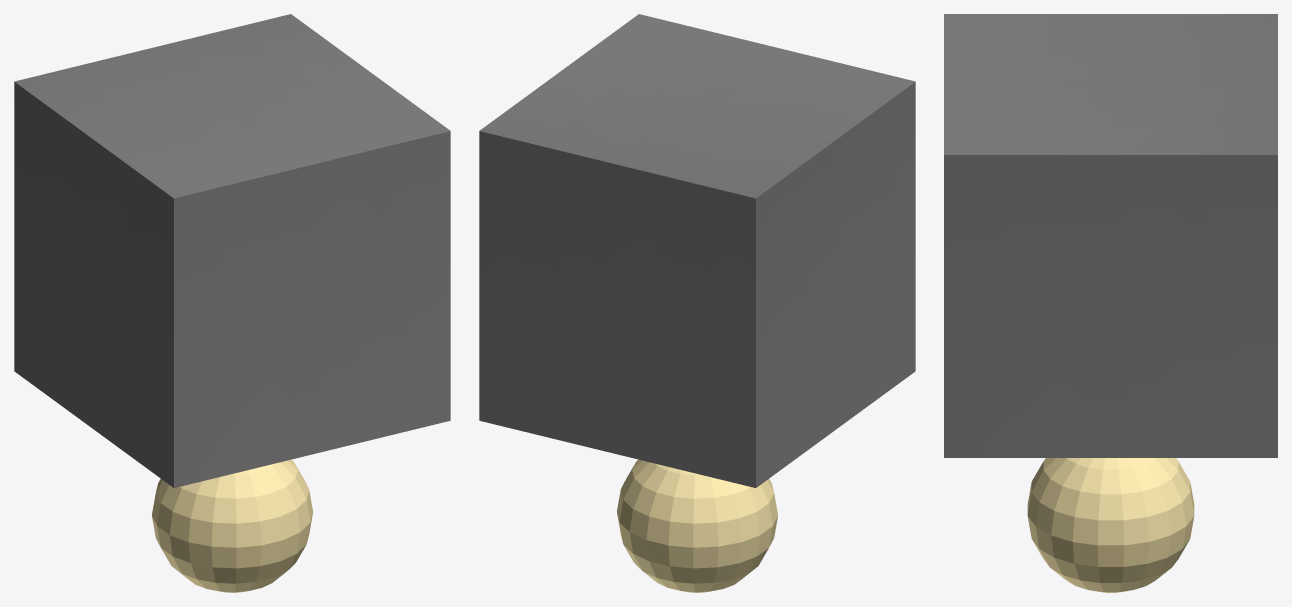
The model's file is dc_metro_roof_m2l.obj.
The picture shows the model from 3 angles, left to right: view 1: azimuth 30°, elevation 25°; view 2: azimuth 150°, elevation 25°; view 3: azimuth 270°, elevation 25°; orthographic projection. The views are drawn at different scales.
Parts seen in each view (by area): view 1: cube, part3l; view 2: cube, part3l; view 3: cube, part3l.
Part boxes in pixels (left/top/right/bottom): cube: left=14, top=14, right=450, bottom=487; part3l: left=152, top=459, right=312, bottom=592; cube: left=479, top=14, right=915, bottom=487; part3l: left=617, top=459, right=777, bottom=592; cube: left=944, top=14, right=1277, bottom=457; part3l: left=1027, top=458, right=1194, bottom=592.
Bounding box in the file's own units: 1 × 1.66 × 1.
Materials: 4 (4 with a texture image).
